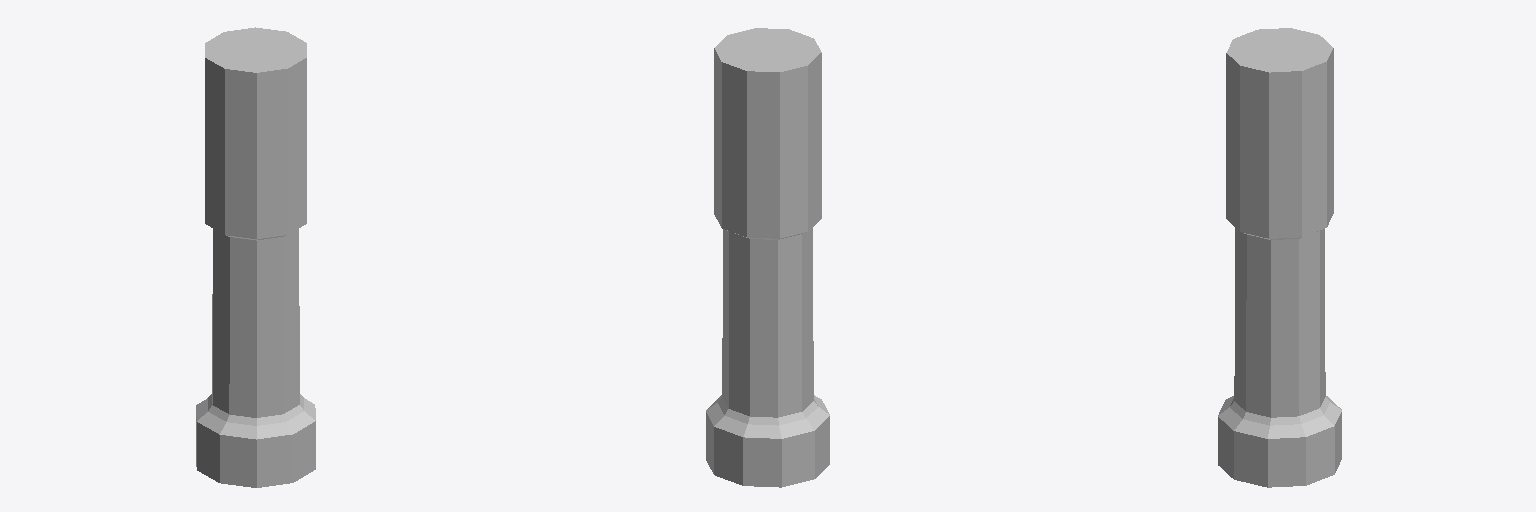
The model's file is EngineRoom_CoreEngineTop.obj.
The picture shows the model from 3 angles: view 1: azimuth 30°, elevation 25°; view 2: azimuth 150°, elevation 25°; view 3: azimuth 270°, elevation 25°; orthographic projection.
Parts seen in each view (by area): view 1: default; view 2: default; view 3: default.
Part boxes in pixels (x1,y1,x2,y2): default: (196,27,315,487); default: (706,28,829,487); default: (1218,28,1341,487).
Size of the model in its own units: 21.12 by 77.99 by 21.4.